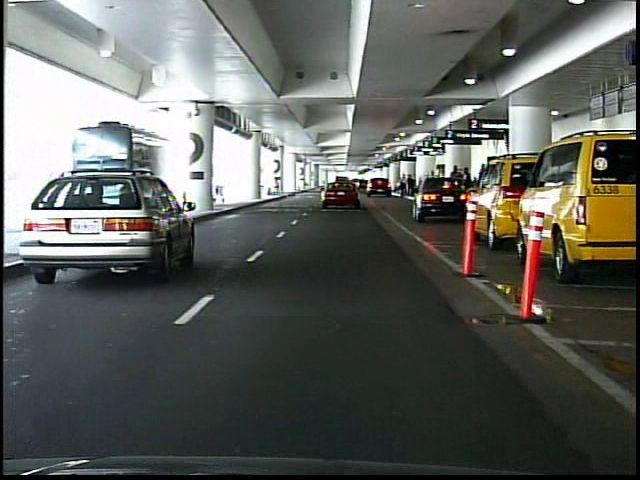person: (448, 163, 465, 207), (461, 166, 476, 208), (400, 172, 409, 196), (408, 173, 415, 196)
